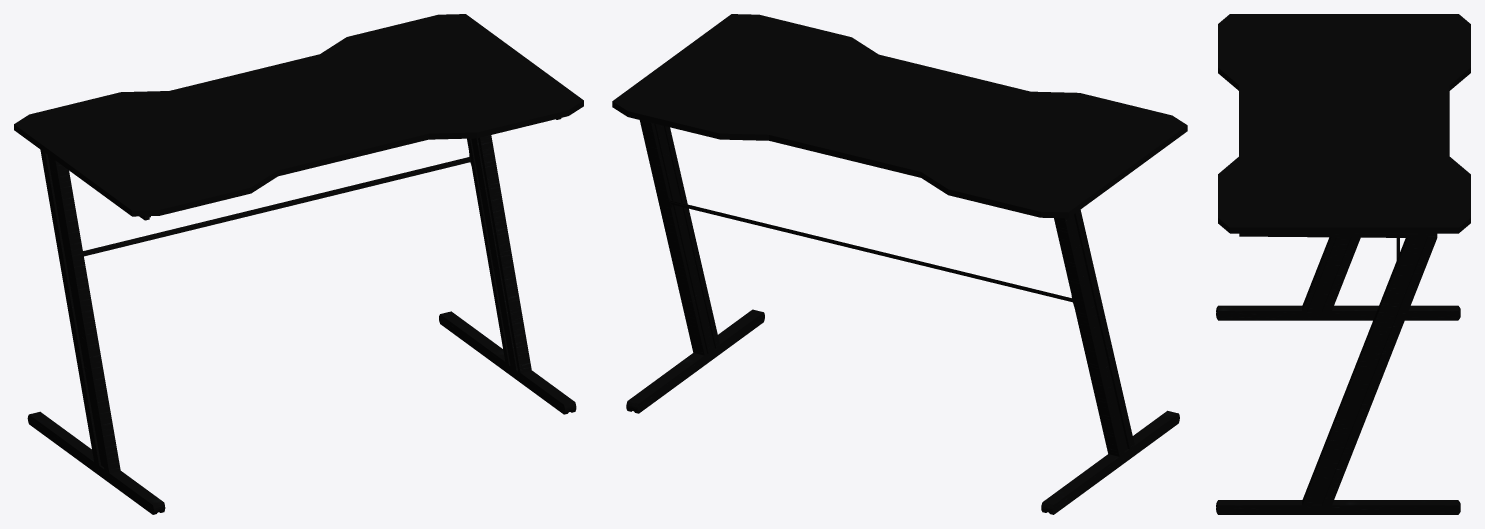
File: gaming_table.glb
The picture shows the model from 3 angles, left to right: view 1: azimuth 30°, elevation 25°; view 2: azimuth 150°, elevation 25°; view 3: azimuth 270°, elevation 25°; orthographic projection. The views are drawn at different scales.
Parts seen in each view (by area): view 1: czBaked; view 2: czBaked; view 3: czBaked.
Part boxes in pixels (<box>): czBaked: <box>14,14,583,514</box>; czBaked: <box>612,14,1187,514</box>; czBaked: <box>1216,14,1470,514</box>.
Size of the model in its own units: 1.2 by 0.7701 by 0.6043.
1 material, 1 textured.
